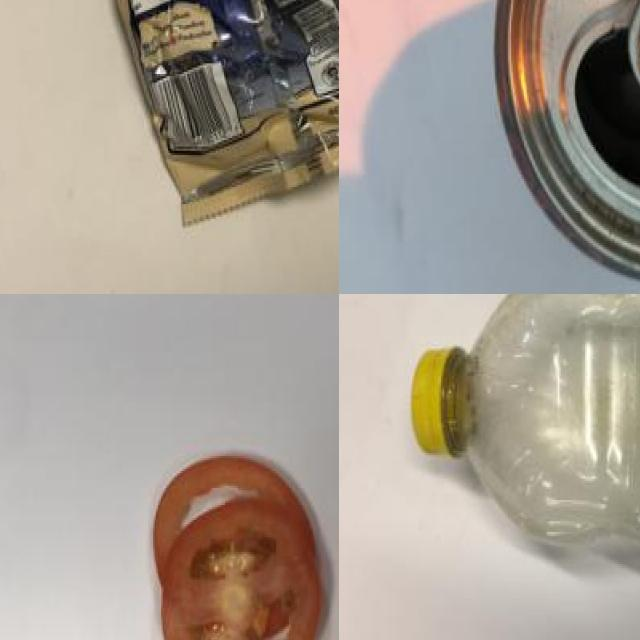compost: (128, 442, 339, 640)
plastic: (405, 294, 640, 566), (481, 0, 640, 288)
trash: (75, 0, 339, 228)
